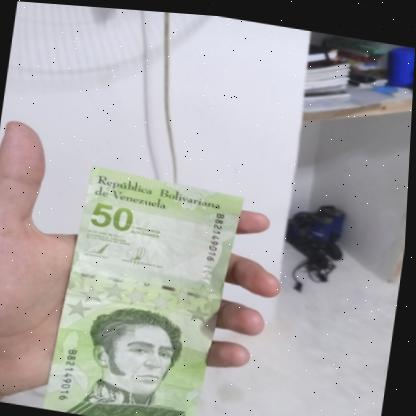fifty-front-vef: (45, 159, 248, 416)
